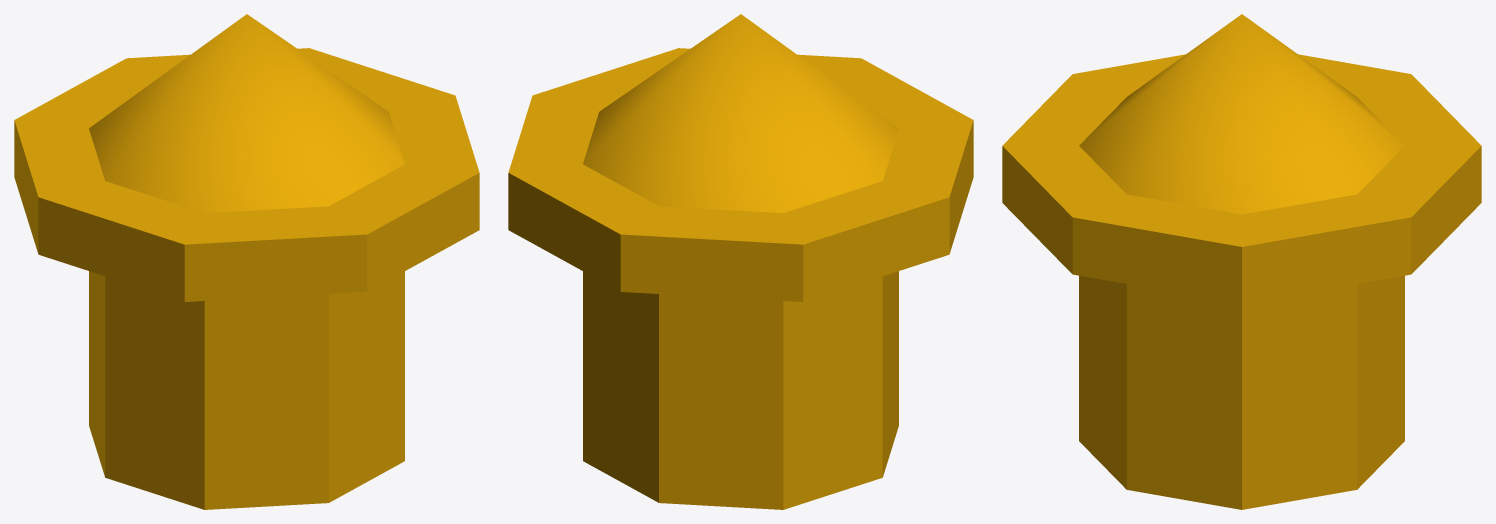
The model's file is Bumper.fbx.
The picture shows the model from 3 angles, left to right: view 1: azimuth 30°, elevation 25°; view 2: azimuth 150°, elevation 25°; view 3: azimuth 270°, elevation 25°; orthographic projection.
Visible parts, largest first — view 1: pCylinder1; view 2: pCylinder1; view 3: pCylinder1.
Boxes of the visible parts, x1,y1,x2,y2 form: pCylinder1: (14, 14, 479, 509); pCylinder1: (508, 14, 973, 509); pCylinder1: (1002, 14, 1481, 509).
Bounding box in the file's own units: 2.94 × 2.89 × 2.94.
